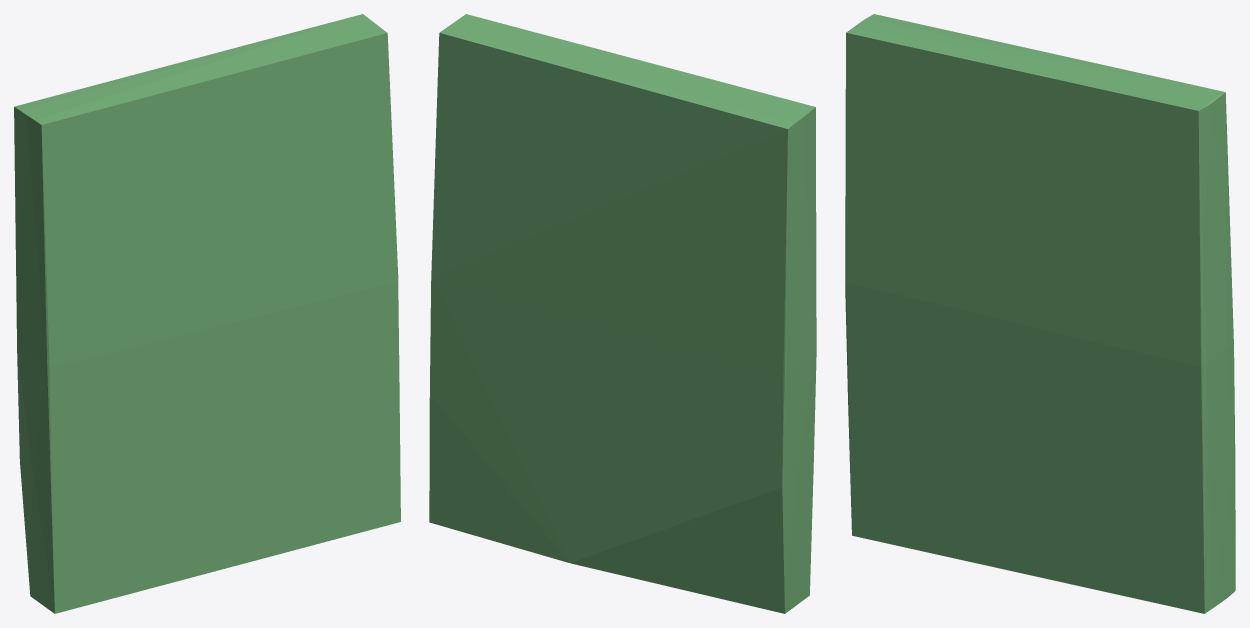
The model's file is box_cardboard_folded_brown_a04.glb.
The picture shows the model from 3 angles, left to right: view 1: azimuth 30°, elevation 25°; view 2: azimuth 150°, elevation 25°; view 3: azimuth 330°, elevation 25°; orthographic projection.
Visible parts, largest first — view 1: geometry_0; view 2: geometry_0; view 3: geometry_0.
Boxes of the visible parts, x1,y1,x2,y2 form: geometry_0: (14,14,400,613); geometry_0: (429,14,816,613); geometry_0: (845,14,1235,613).
Bounding box in the file's own units: 0.3615 × 0.48 × 0.0555.
